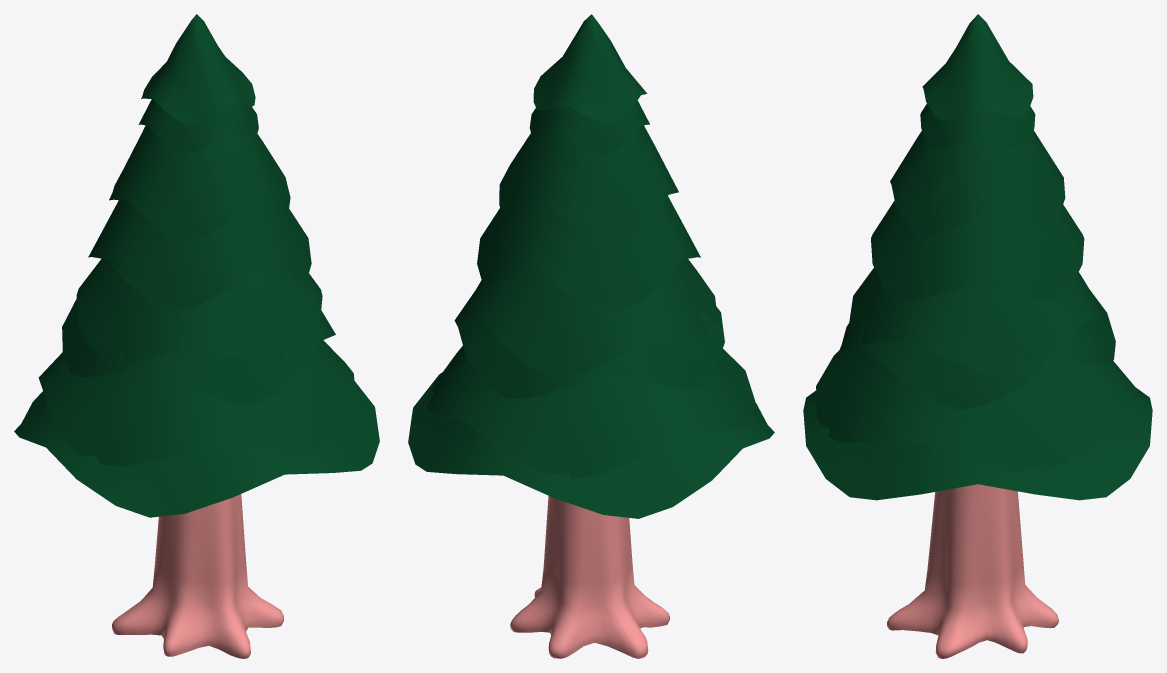
File: PineTree.fbx
The picture shows the model from 3 angles, left to right: view 1: azimuth 30°, elevation 25°; view 2: azimuth 150°, elevation 25°; view 3: azimuth 270°, elevation 25°; orthographic projection.
Parts seen in each view (by area): view 1: SM_Pine01; view 2: SM_Pine01; view 3: SM_Pine01.
Boxes of the visible parts, <box> form: SM_Pine01: <box>14,14,379,658</box>; SM_Pine01: <box>408,14,774,658</box>; SM_Pine01: <box>803,14,1152,658</box>.
Size of the model in its own units: 321 by 621 by 321.
